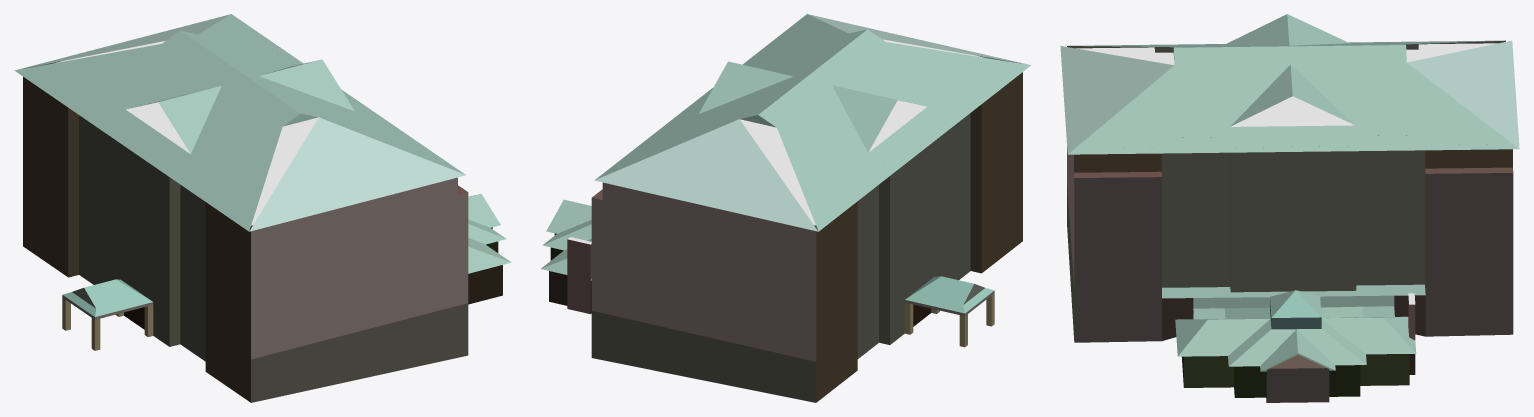
The model's file is hilton-garden-inn-chattanooga-tn.glb.
3 renders of one model, left to right at view 1: azimuth 30°, elevation 25°; view 2: azimuth 150°, elevation 25°; view 3: azimuth 270°, elevation 25°, orthographic.
Parts seen in each view (by area): view 1: LOD0; view 2: LOD0; view 3: LOD0.
Boxes of the visible parts, x1=… form: LOD0: x1=14, y1=14, x2=511, y2=402; LOD0: x1=541, y1=14, x2=1031, y2=402; LOD0: x1=1060, y1=14, x2=1519, y2=402.
Size of what is drawn, in the model's own units: 46.5 by 25.52 by 44.58.
Materials: 2 (2 with a texture image).
